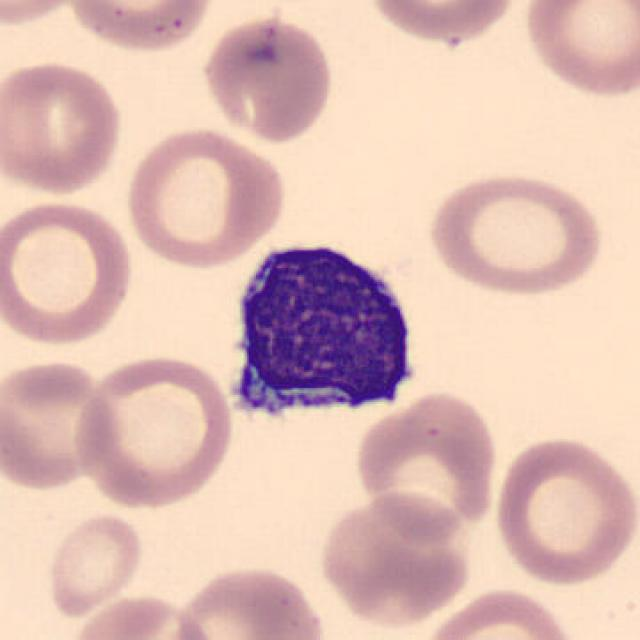Lymphocyte: (214, 224, 431, 441)
RBC: (71, 351, 237, 511), (121, 123, 290, 270), (423, 168, 608, 300), (352, 386, 501, 545), (314, 486, 476, 630), (489, 432, 636, 589), (0, 196, 139, 349), (197, 10, 338, 146), (0, 56, 128, 200), (0, 356, 121, 494), (168, 560, 332, 640), (517, 0, 638, 102), (42, 508, 146, 619), (415, 583, 581, 640), (66, 0, 217, 55), (362, 0, 522, 48), (64, 590, 215, 640), (0, 0, 91, 30)
